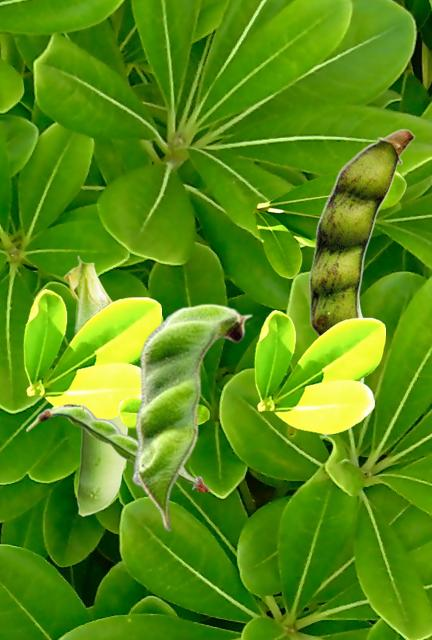pea: (131, 303, 252, 531), (309, 128, 414, 336), (63, 255, 127, 515), (26, 404, 209, 490)
